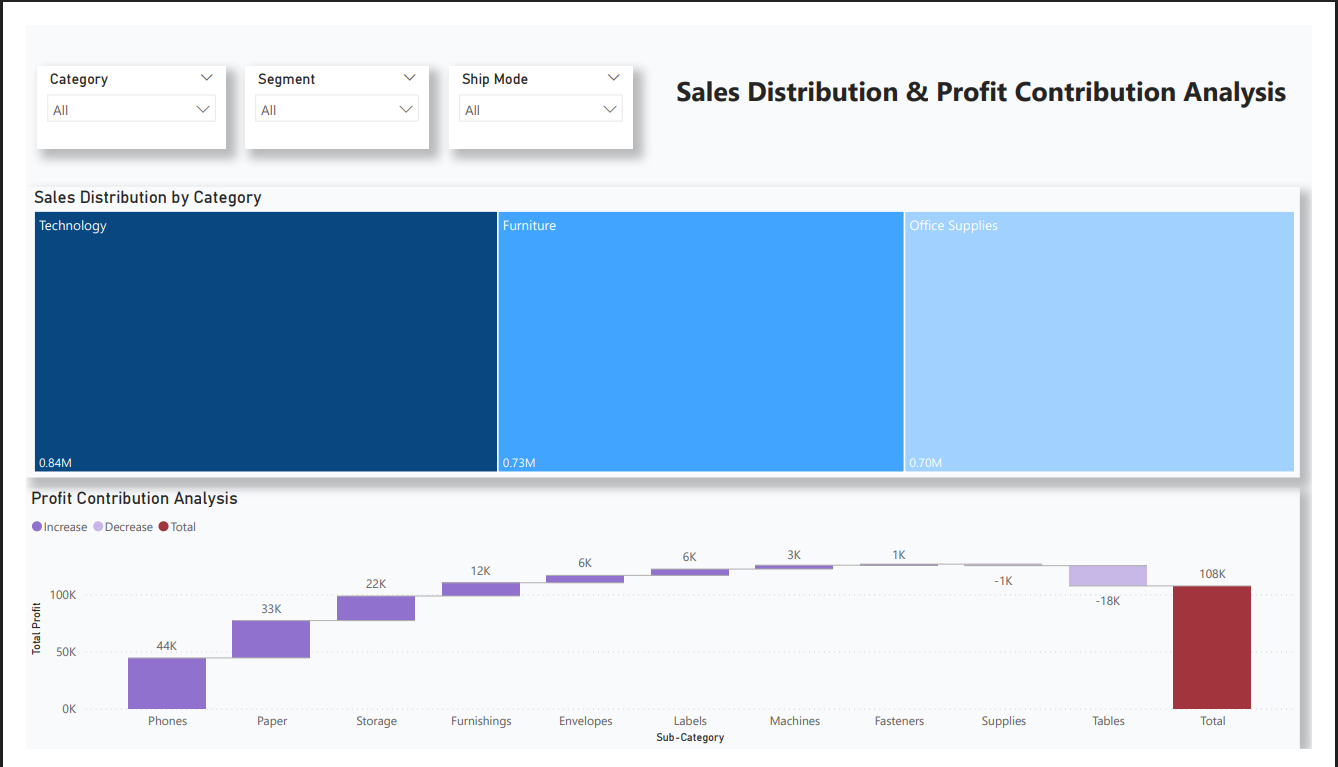

Layout of this report page (visuals, bound fields, positions):
{"tool":"powerbi","page":{"name":"Deep Analysis","canvas":[1280,720],"ordinal":1},"visuals":[{"type":"slicer","fields":{"Values":["ecommerce_project superstore_final.Category"]},"box":[11.2,41.2,187.5,81.2],"z":0},{"type":"slicer","fields":{"Values":["ecommerce_project superstore_final.Segment"]},"box":[217.5,41.2,183.8,81.2],"z":1000},{"type":"slicer","fields":{"Values":["ecommerce_project superstore_final.Ship Mode"]},"box":[421.2,41.2,182.5,81.2],"z":2000},{"type":"treemap","title":"Sales Distribution by Category","fields":{"Group":["ecommerce_project superstore_final.Category"],"Values":["ecommerce_project superstore_final.Total Sales"]},"box":[0,161.2,1267.5,288.8],"z":3000},{"type":"waterfallChart","title":"Profit Contribution Analysis","fields":{"Category":["ecommerce_project superstore_final.Sub-Category"],"Y":["ecommerce_project superstore_final.Total Profit"]},"box":[0,460,1267.5,260],"z":4000},{"type":"textbox","box":[633.8,41.2,633.8,81.2],"z":5000}]}

Visuals, with their boxes in screenshot pixels (x1, y1, x2, y2), scaled from the page's 1280x720 canvas onto the 1338x767 screenshot:
slicer - ecommerce_project superstore_final.Category: (left=12, top=44, right=208, bottom=130)
slicer - ecommerce_project superstore_final.Segment: (left=227, top=44, right=419, bottom=130)
slicer - ecommerce_project superstore_final.Ship Mode: (left=440, top=44, right=631, bottom=130)
"Sales Distribution by Category" treemap: (left=0, top=172, right=1325, bottom=479)
"Profit Contribution Analysis" waterfallChart: (left=0, top=490, right=1325, bottom=766)
textbox: (left=663, top=44, right=1325, bottom=130)
